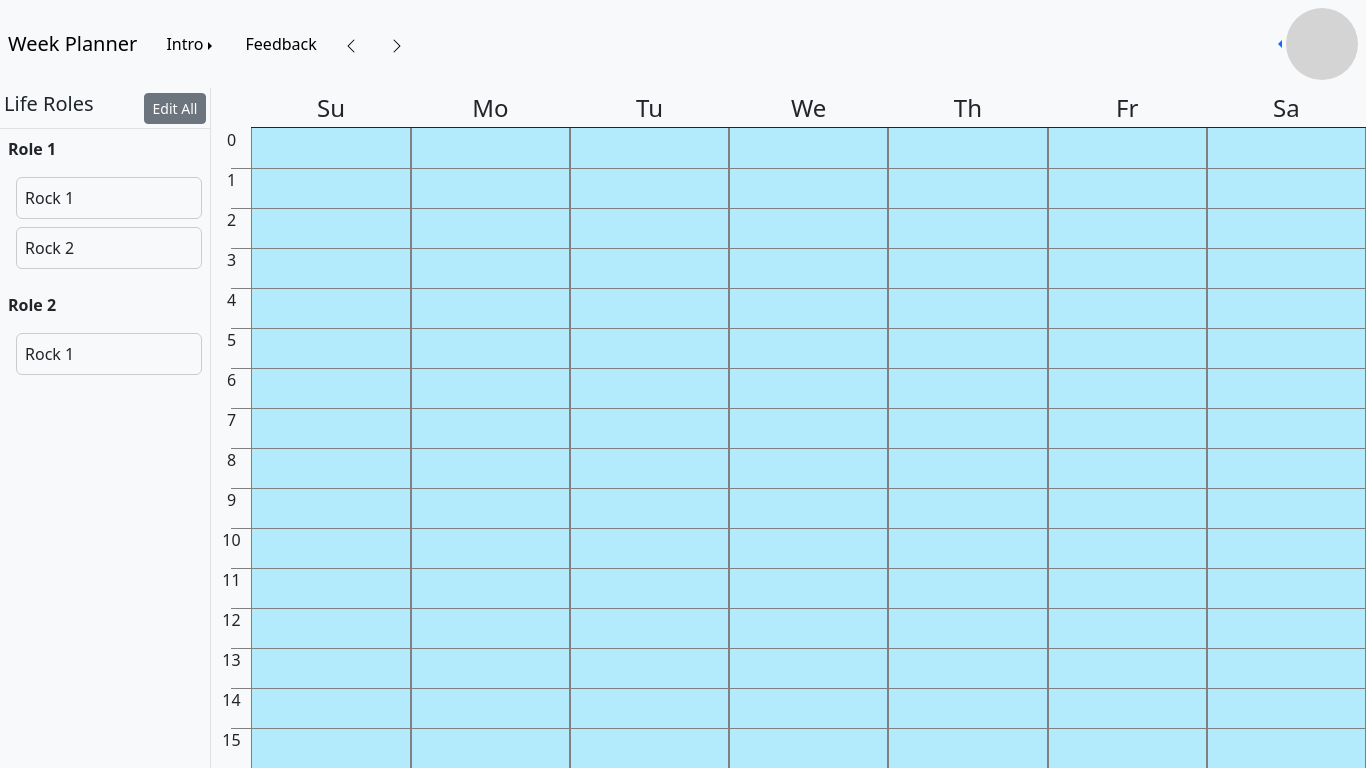
Test: Role bar controls › can delete a Role.
This screenshot has width=1366, height=768.
Click the button with id "editing-btn". click: click(175, 108)
box: [144, 92, 206, 124]
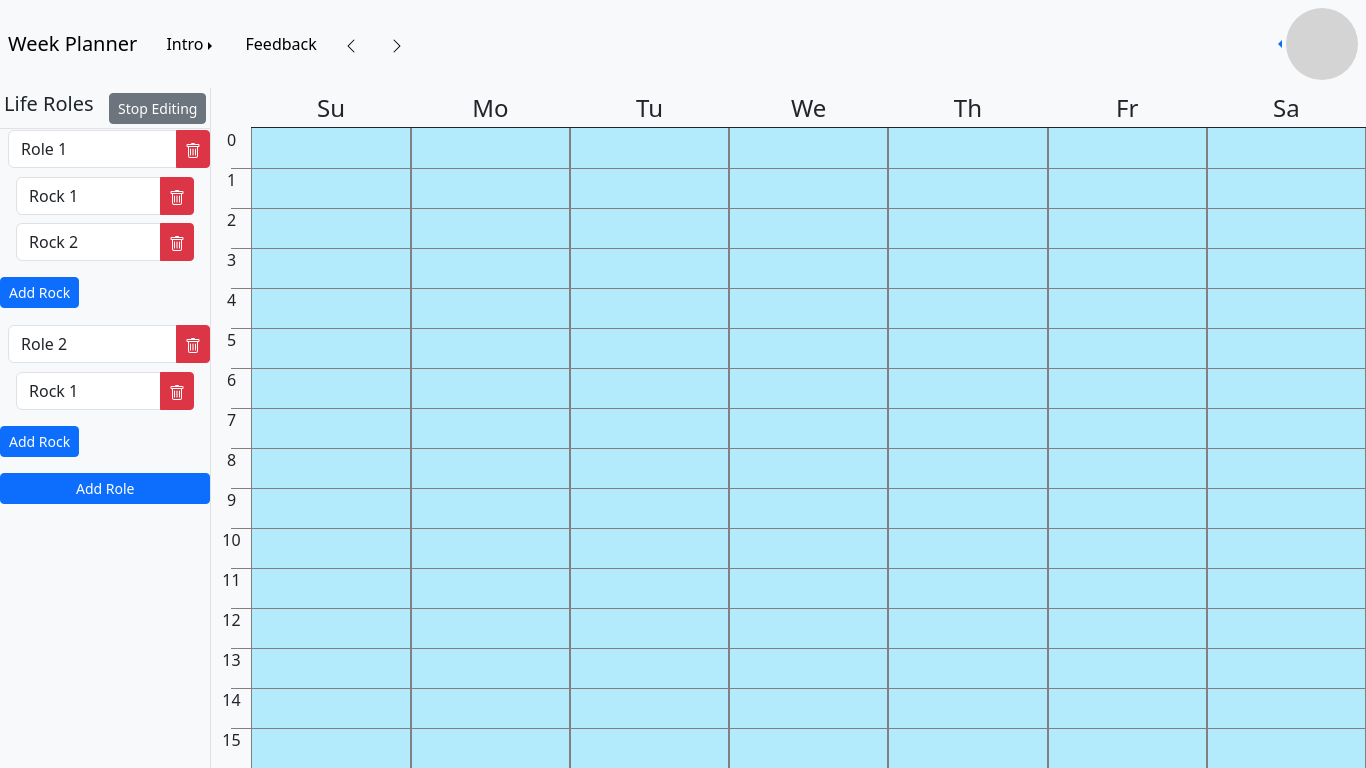
Click the 1st button named "delete role". click: click(194, 149)
box: [176, 130, 210, 168]
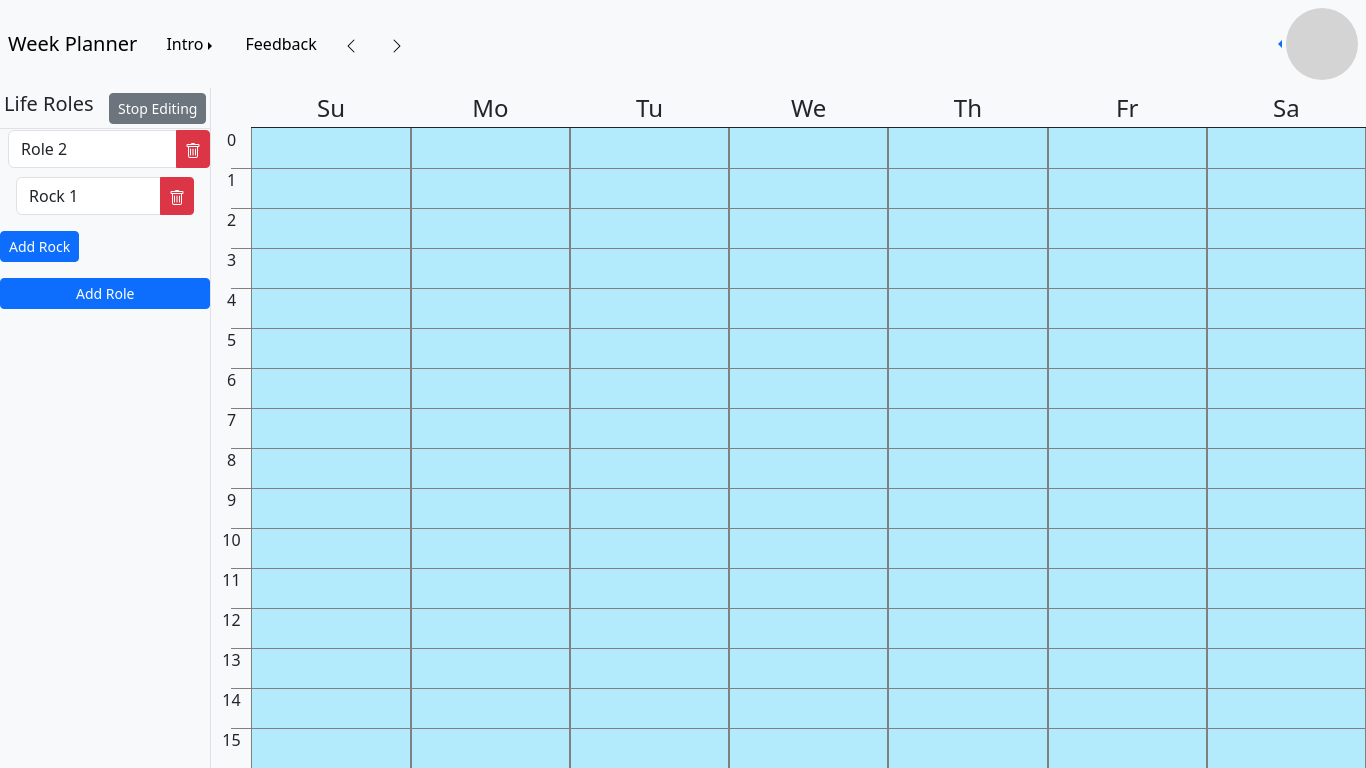
Result: the number of elements with class "role" is 1 at [0, 129, 210, 262]
